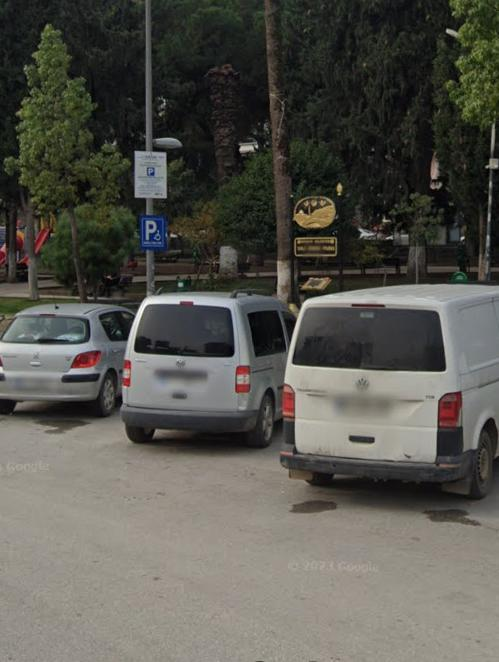disabledpark: (142, 216, 165, 246)
